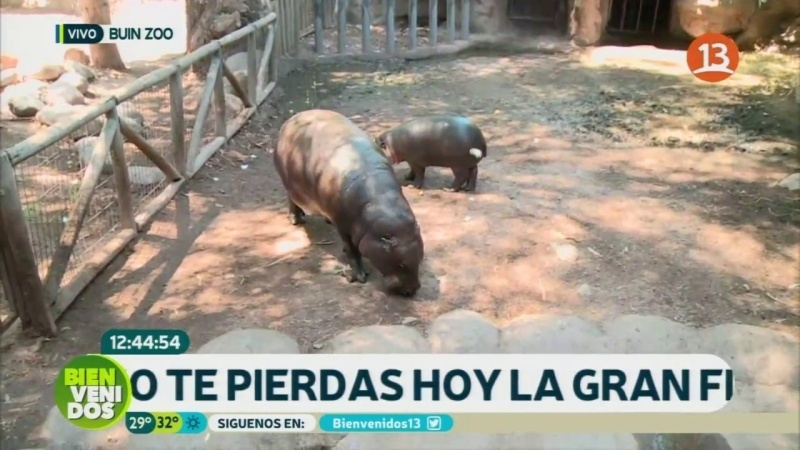hipopotamo: (265, 103, 434, 300), (373, 94, 500, 202)
